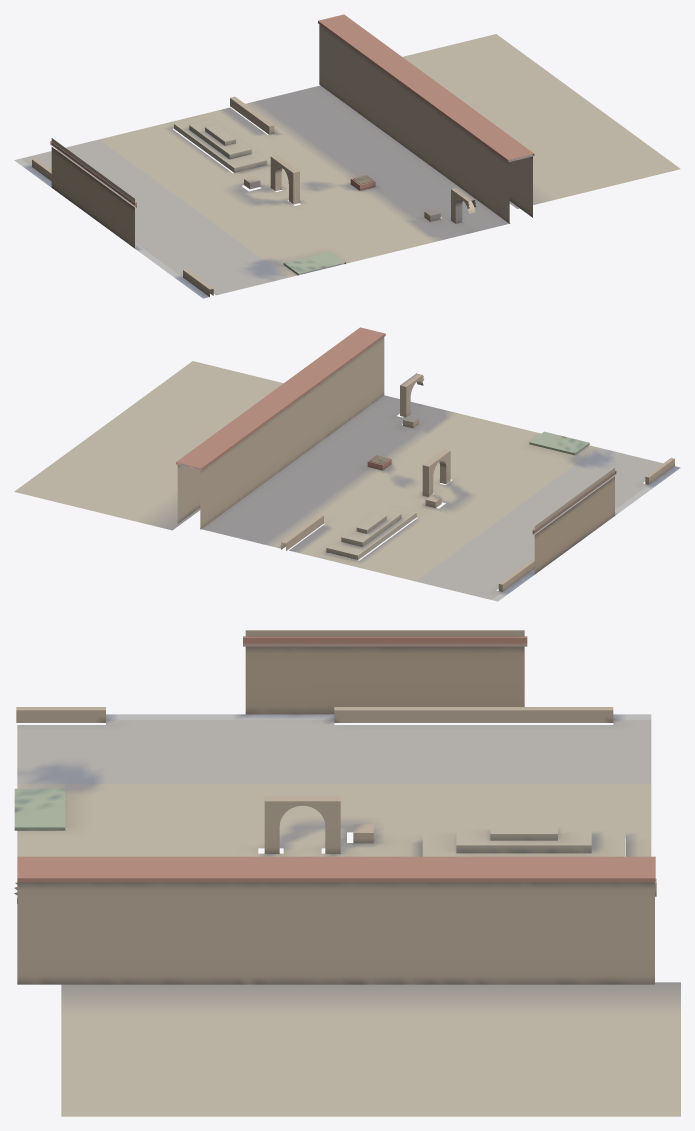
The picture shows the model from 3 angles, top to bottom: view 1: azimuth 30°, elevation 25°; view 2: azimuth 150°, elevation 25°; view 3: azimuth 270°, elevation 25°; orthographic projection. The views are drawn at different scales.
Visible parts, largest first — view 1: t; view 2: t; view 3: t.
Part boxes in pixels (left/top/right/bottom): t: left=14, top=14, right=680, bottom=298; t: left=14, top=327, right=680, bottom=601; t: left=14, top=630, right=680, bottom=1116.
Size of the model in its own units: 75.1 by 9.35 by 52.58.
